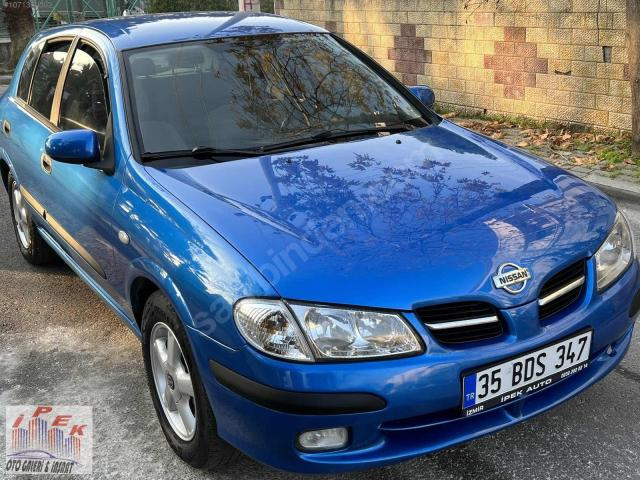plaka: (463, 330, 592, 415)
